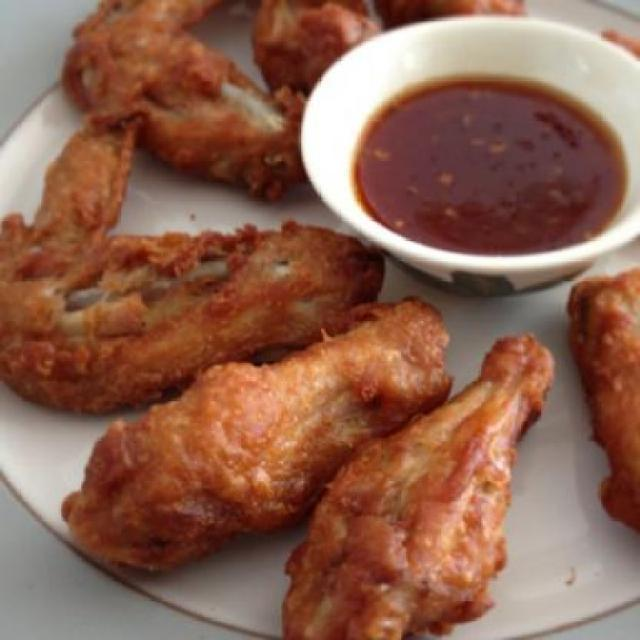Deep fried chicken wing: (10, 9, 535, 620)
